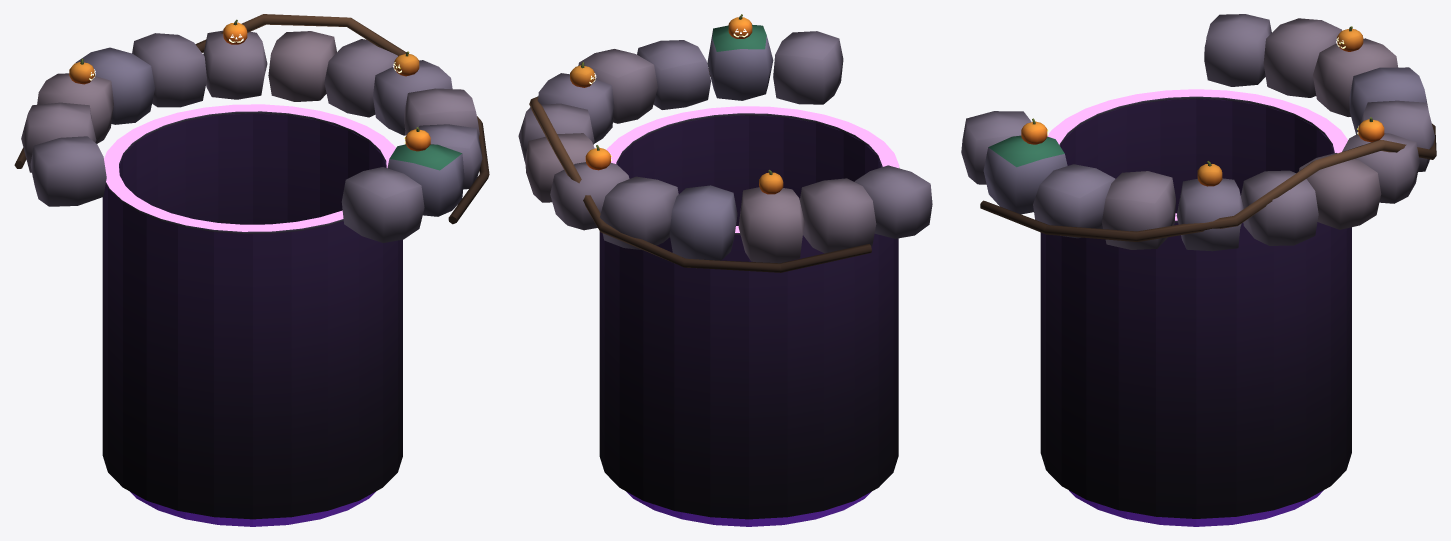
Rendered from BallValley_Kit_Hole_Corner.fbx.
The picture shows the model from 3 angles, left to right: view 1: azimuth 30°, elevation 25°; view 2: azimuth 150°, elevation 25°; view 3: azimuth 270°, elevation 25°; orthographic projection. The views are drawn at different scales.
Parts seen in each view (by area): view 1: BallValley_Kit_Hole_Corner; view 2: BallValley_Kit_Hole_Corner; view 3: BallValley_Kit_Hole_Corner.
Part boxes in pixels (left/top/right/bottom): BallValley_Kit_Hole_Corner: left=14, top=14, right=489, bottom=526; BallValley_Kit_Hole_Corner: left=518, top=14, right=932, bottom=526; BallValley_Kit_Hole_Corner: left=961, top=14, right=1436, bottom=526.
Size of the model in its own units: 8.69 by 7.96 by 8.71.
